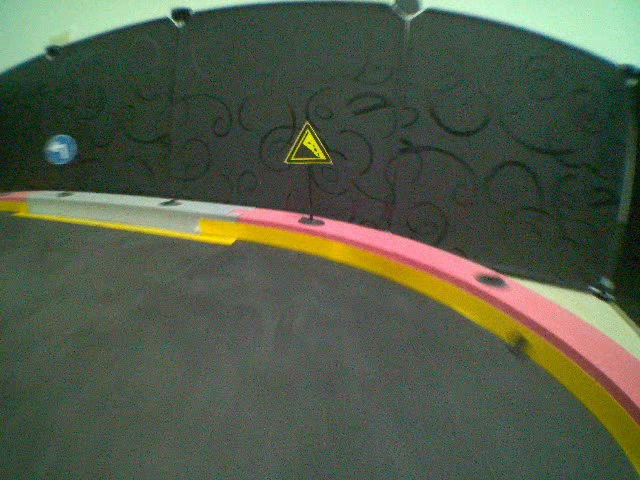fast: (283, 121, 337, 165)
turn: (43, 132, 77, 167)
